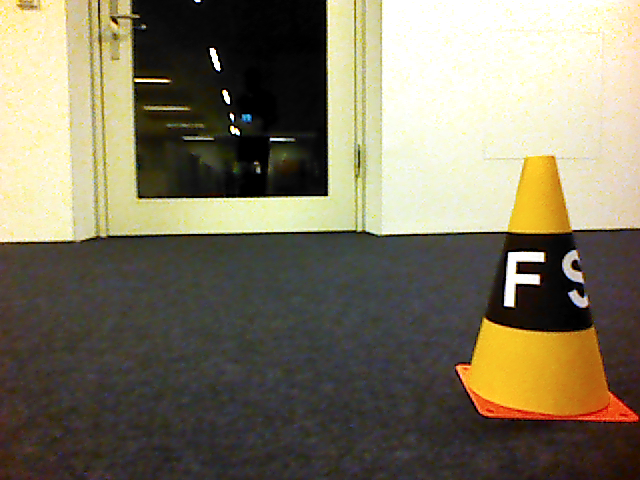yellowcone: (452, 155, 640, 425)
